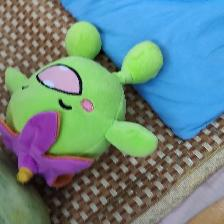gua: (1, 186, 34, 223)
